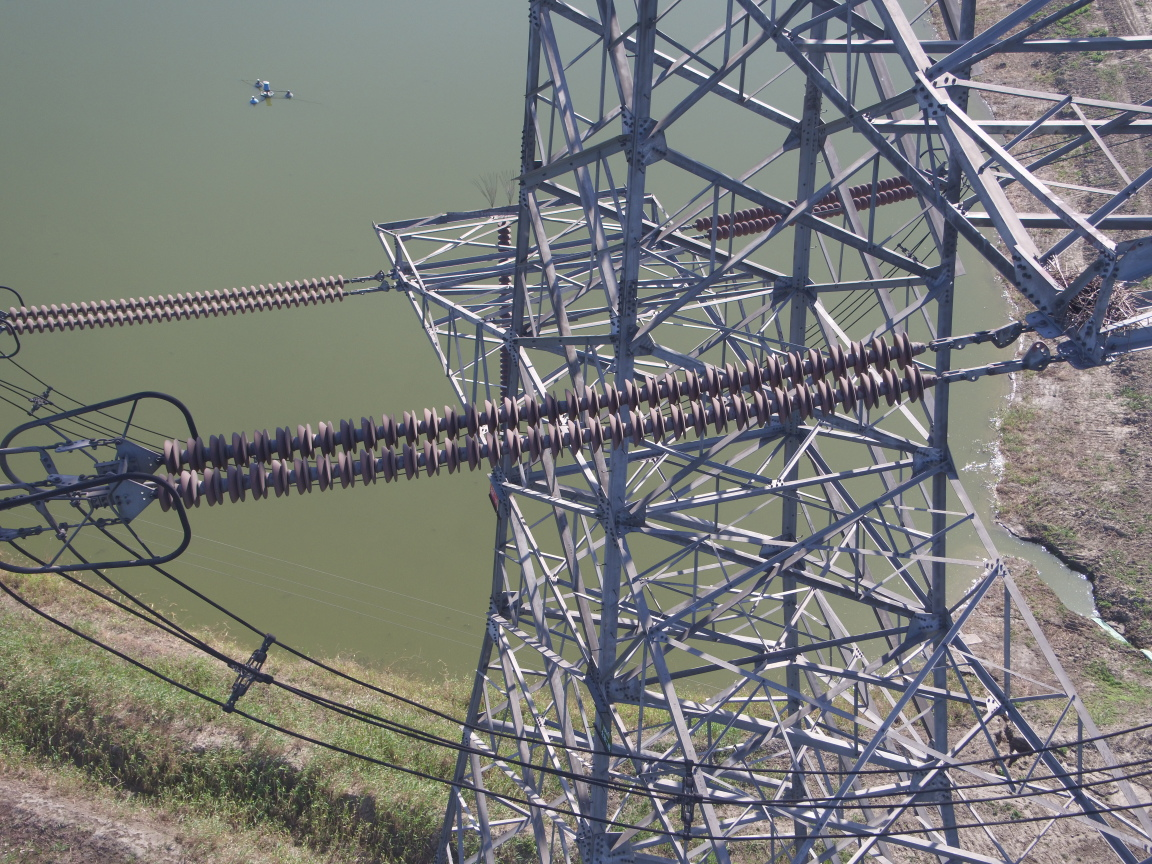insulator: (140, 329, 961, 515), (1, 272, 366, 336)
